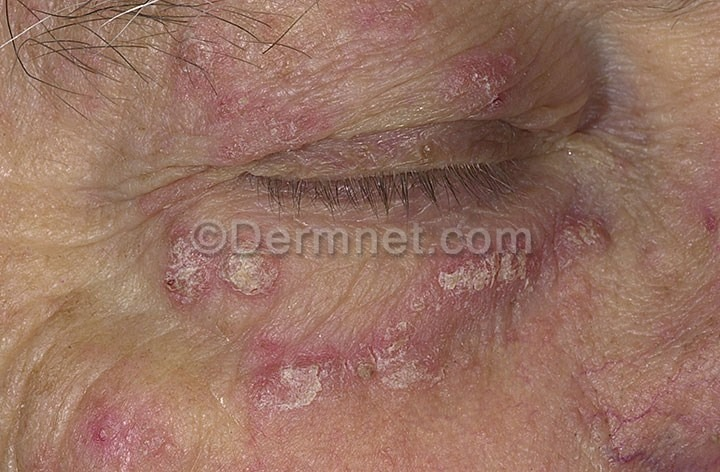Psoriasis: (160, 39, 549, 168), (232, 322, 480, 435), (404, 231, 625, 332), (162, 214, 308, 321), (60, 378, 187, 472)
